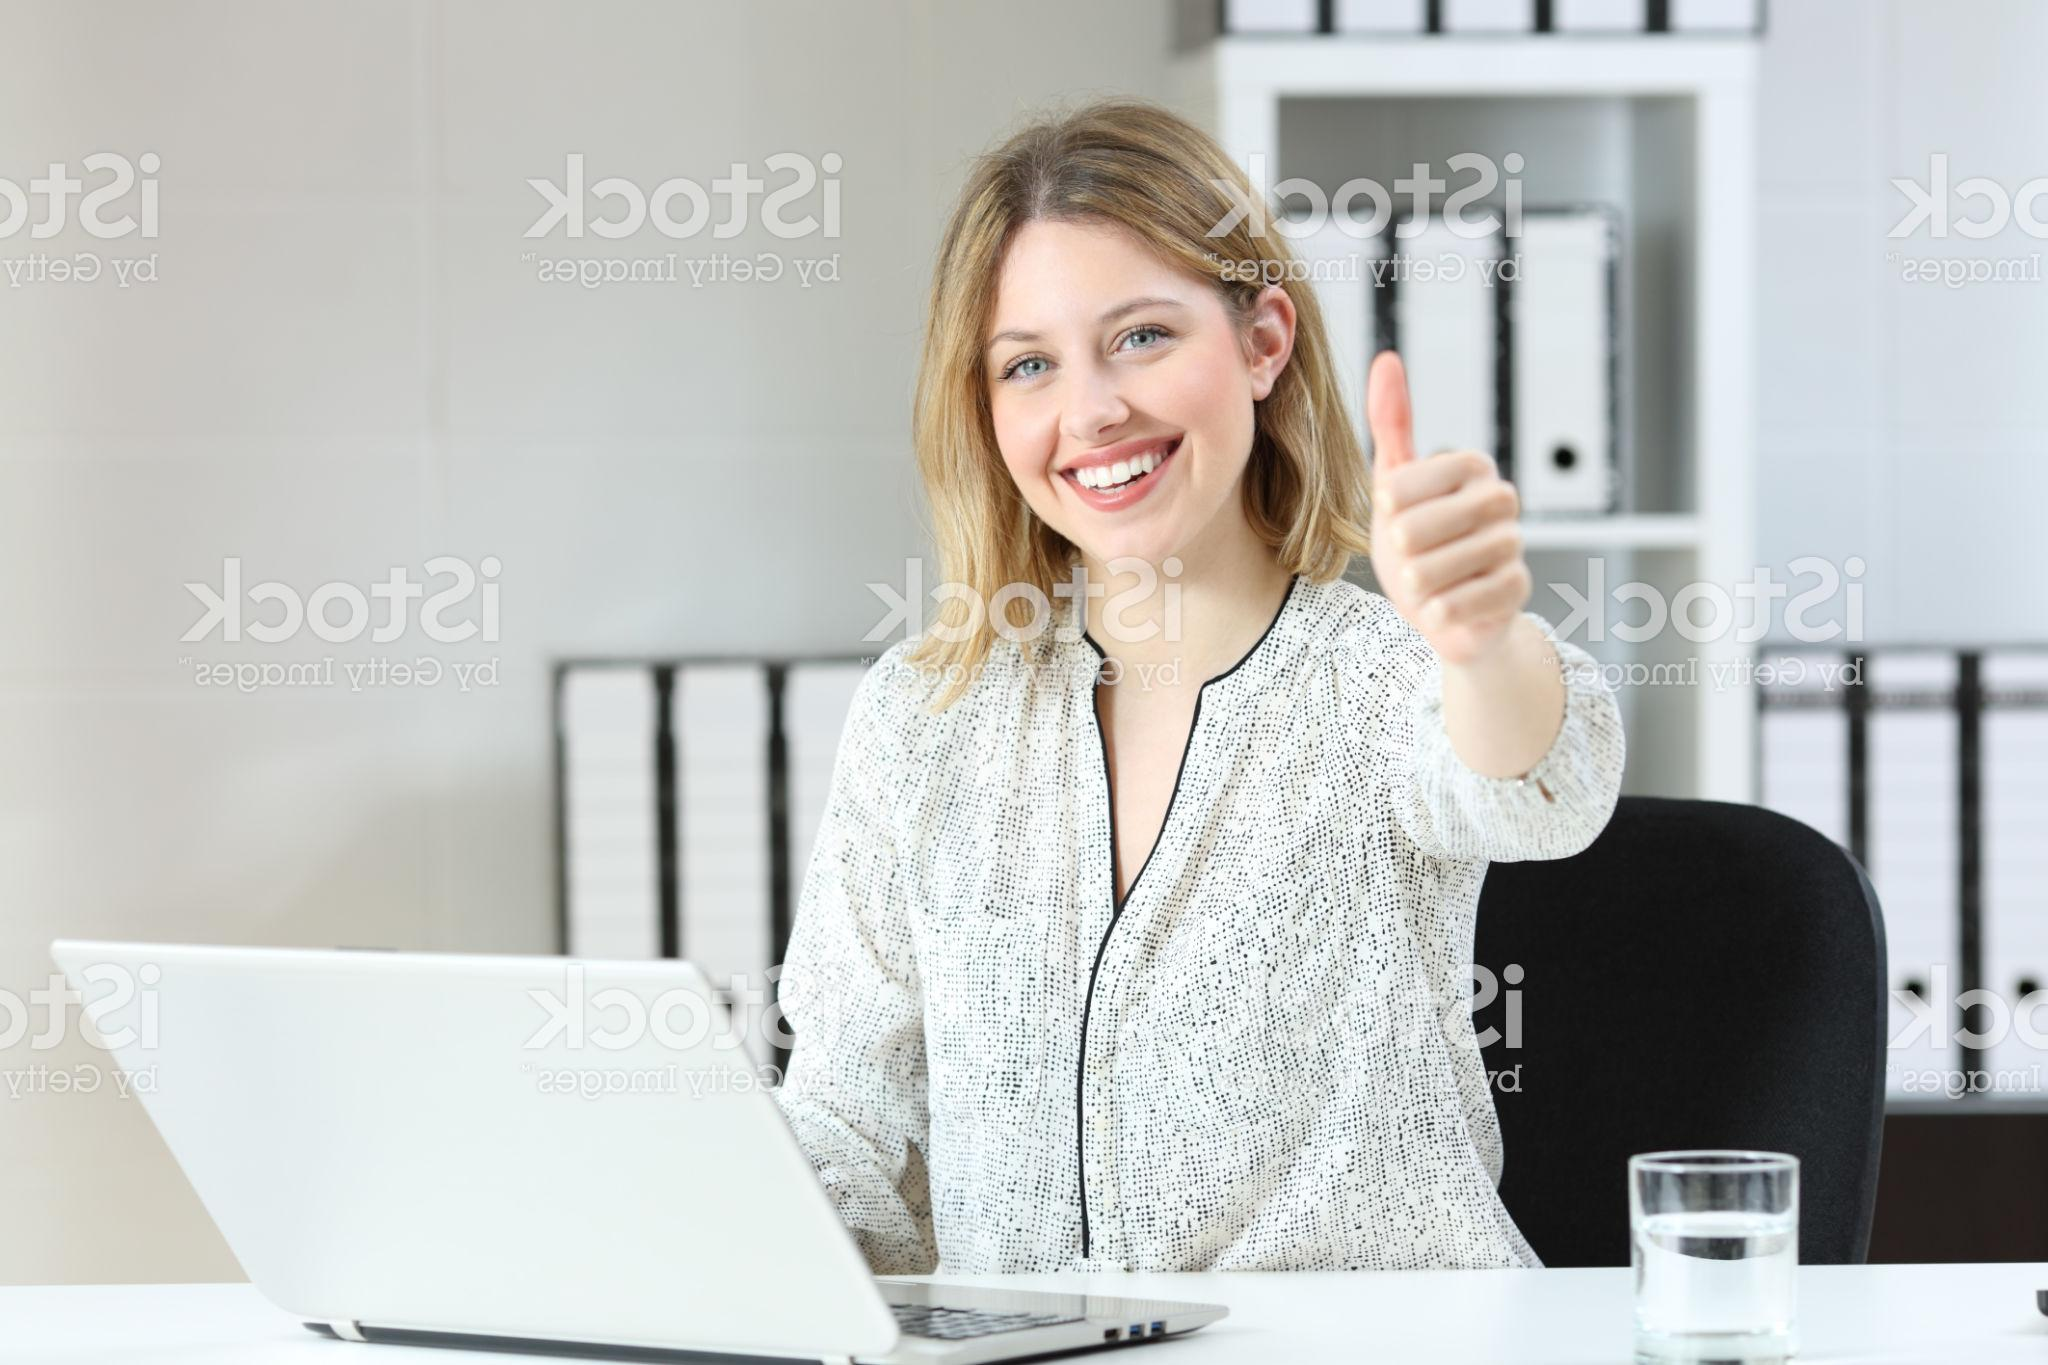thumbsup: (1361, 347, 1536, 654)
